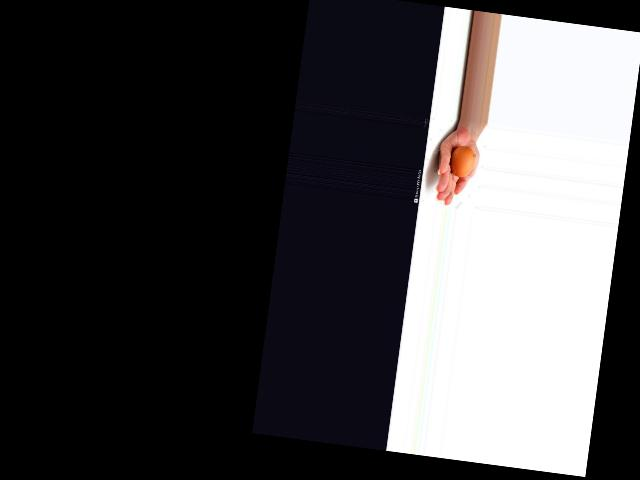egg: (448, 143, 477, 178)
